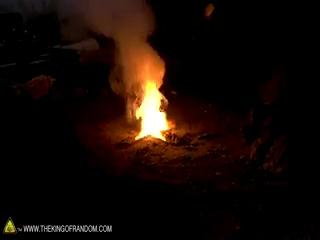Fire: (132, 75, 168, 142)
